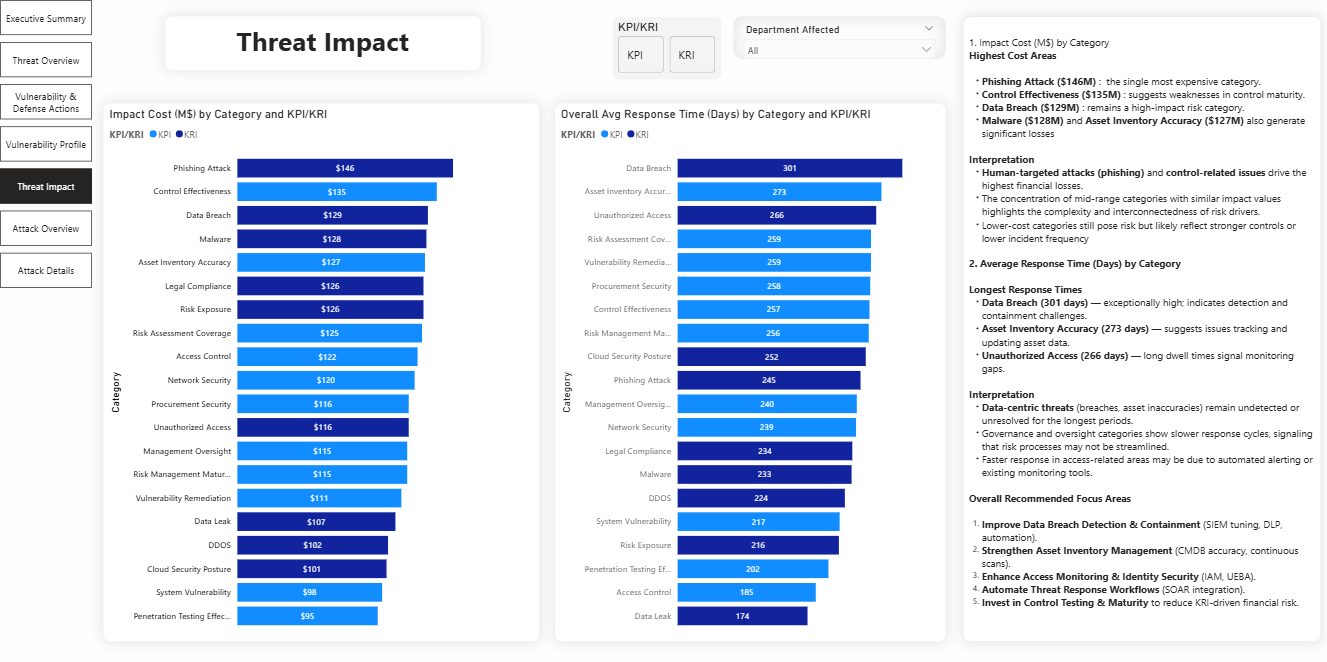

What the dashboard file says about the page in this screenshot:
{"tool":"powerbi","page":{"name":"Threat Impact","canvas":[1900,950],"ordinal":4},"visuals":[{"type":"barChart","fields":{"Category":["simulated_attacks_df.Category"],"Y":["simulated_attacks_df.Impact Cost (M$)"],"Series":["simulated_attacks_df.KPI/KRI"]},"box":[147.7,147.7,620.8,766.2],"z":0},{"type":"advancedSlicerVisual","fields":{"Values":["simulated_attacks_df.KPI/KRI"]},"box":[872.3,23.1,156.9,90],"z":1000},{"type":"barChart","fields":{"Category":["simulated_attacks_df.Category"],"Series":["simulated_attacks_df.KPI/KRI"],"Y":["simulated_attacks_df.Overall Avg Response Time (Days)"]},"box":[791.5,147.7,556.2,766.2],"z":2000},{"type":"slicer","fields":{"Values":["simulated_attacks_df.Department Affected"]},"box":[1045.4,23.1,302.3,60],"z":3000},{"type":"pageNavigator","box":[0,0,131.2,416.1],"z":4000},{"type":"textbox","box":[1370.8,23.1,510,890.8],"z":4001},{"type":"textbox","box":[235.4,23.1,450,76.2],"z":4002}]}

Visuals, with their boxes in screenshot pixels (x1, y1, x2, y2), scaled from the page's 1900x950 canvas onto the 1327x662 screenshot:
barChart - simulated_attacks_df.Category x simulated_attacks_df.Impact Cost (M$): bbox=(103, 103, 537, 637)
advancedSlicerVisual - simulated_attacks_df.KPI/KRI: bbox=(609, 16, 719, 79)
barChart - simulated_attacks_df.Category x simulated_attacks_df.KPI/KRI: bbox=(553, 103, 941, 637)
slicer - simulated_attacks_df.Department Affected: bbox=(730, 16, 941, 58)
pageNavigator: bbox=(0, 0, 92, 290)
textbox: bbox=(957, 16, 1314, 637)
textbox: bbox=(164, 16, 479, 69)
